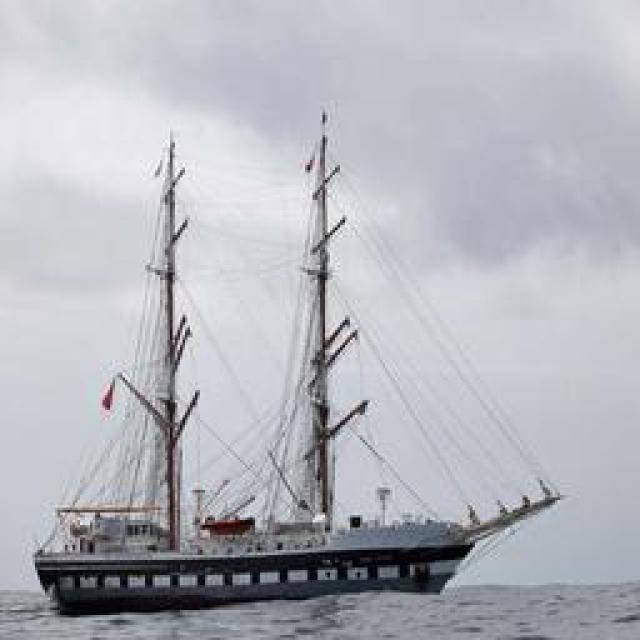Ship: (39, 93, 572, 591)
